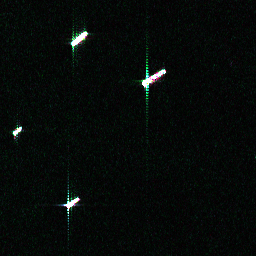ship: (140, 66, 168, 89), (68, 28, 91, 49), (63, 195, 81, 210), (10, 123, 24, 138)
